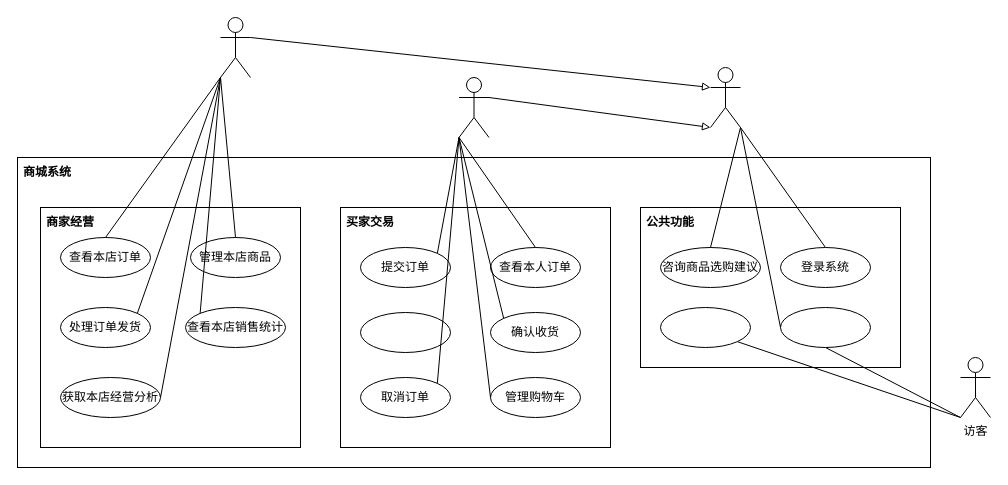
The diagram is 1008 pixels wide and 485 high, and some of its shapes have lost their labels. Each missing label, with the centre of its shape:
买家: the point at 473,107
商城用户: the point at 725,97
商家: the point at 235,47
支付订单: the point at 405,332
注册买家账号: the point at 705,327
浏览与搜索商品: the point at 825,327
